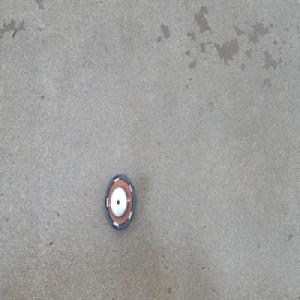FuelCap: (102, 171, 135, 233)
